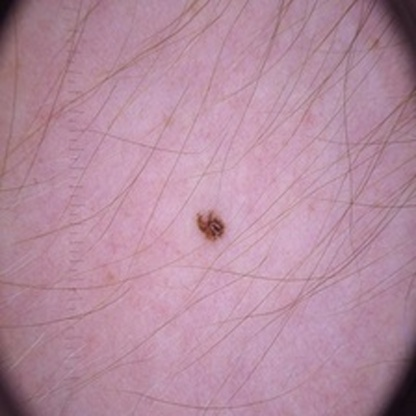benign: (186, 211, 229, 250)
